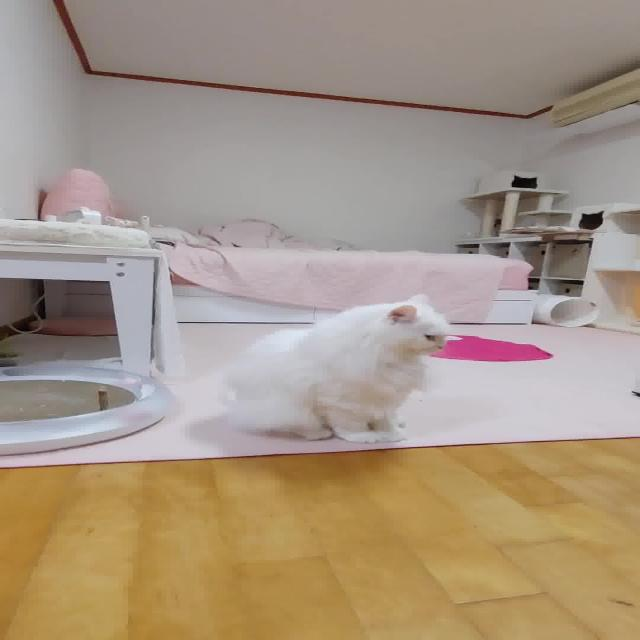cat: (176, 282, 456, 454)
